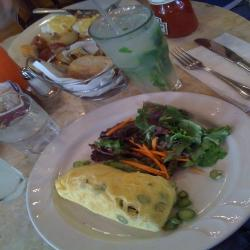omelette: (46, 160, 176, 238)
salad: (143, 104, 234, 175)
